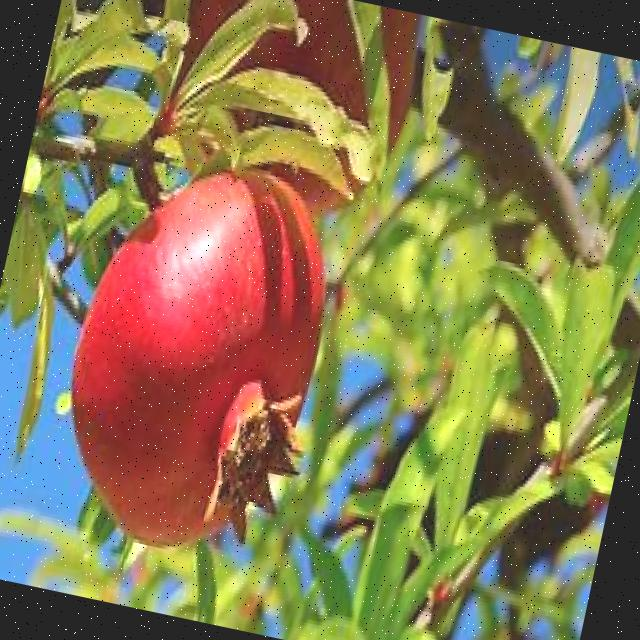Pomegranate: (35, 134, 366, 587)
